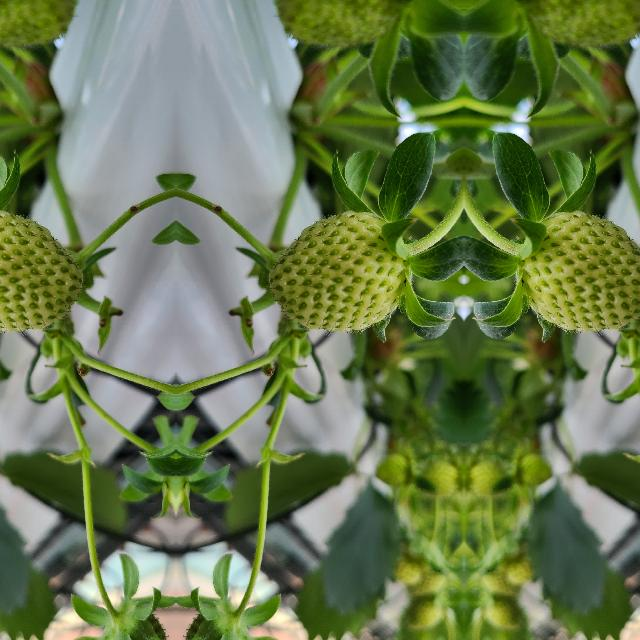Health_25: (268, 211, 402, 331), (524, 211, 640, 331), (0, 211, 82, 331)
